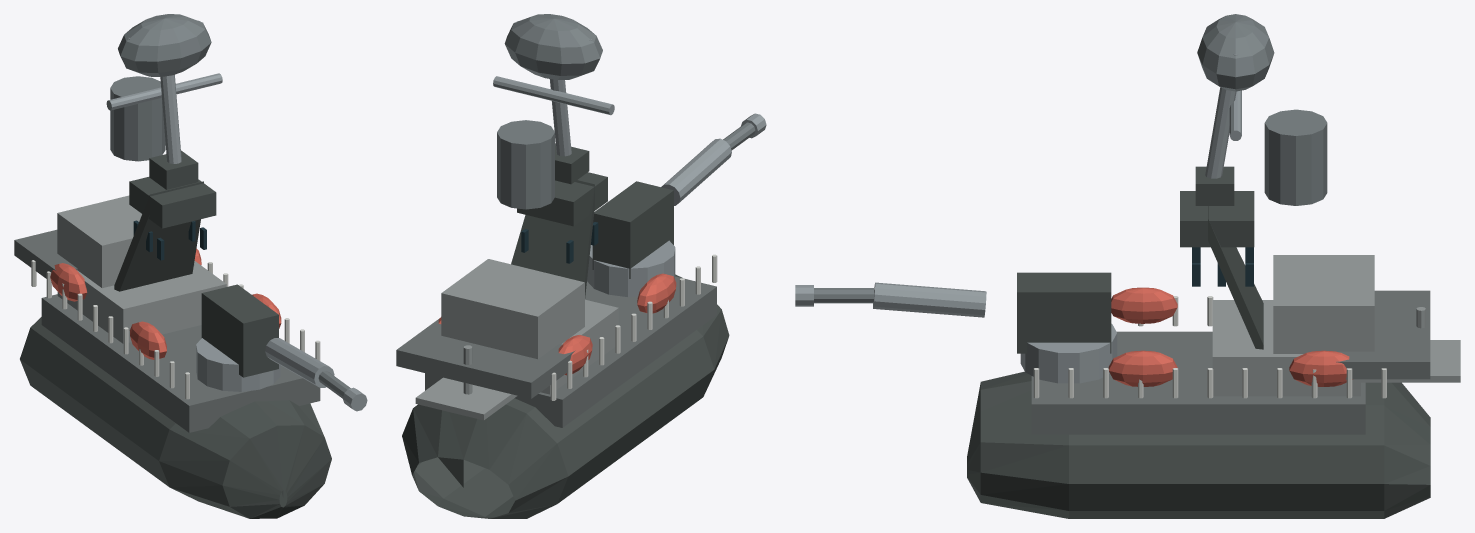
File: korvet-kelas-bung-tomo.glb
3 views of the same model, side by side, from view 1: azimuth 30°, elevation 25°; view 2: azimuth 150°, elevation 25°; view 3: azimuth 270°, elevation 25° (orthographic). The views are drawn at different scales.
Parts seen in each view (by area): view 1: korvet-kelas-bung-tomo; view 2: korvet-kelas-bung-tomo; view 3: korvet-kelas-bung-tomo.
Boxes of the visible parts, box(x1,y1,x2,y2) form: korvet-kelas-bung-tomo: box(14, 14, 367, 518); korvet-kelas-bung-tomo: box(396, 14, 766, 518); korvet-kelas-bung-tomo: box(795, 14, 1460, 518).
Size of the model in its own units: 0.86 by 2.21 by 2.76.
